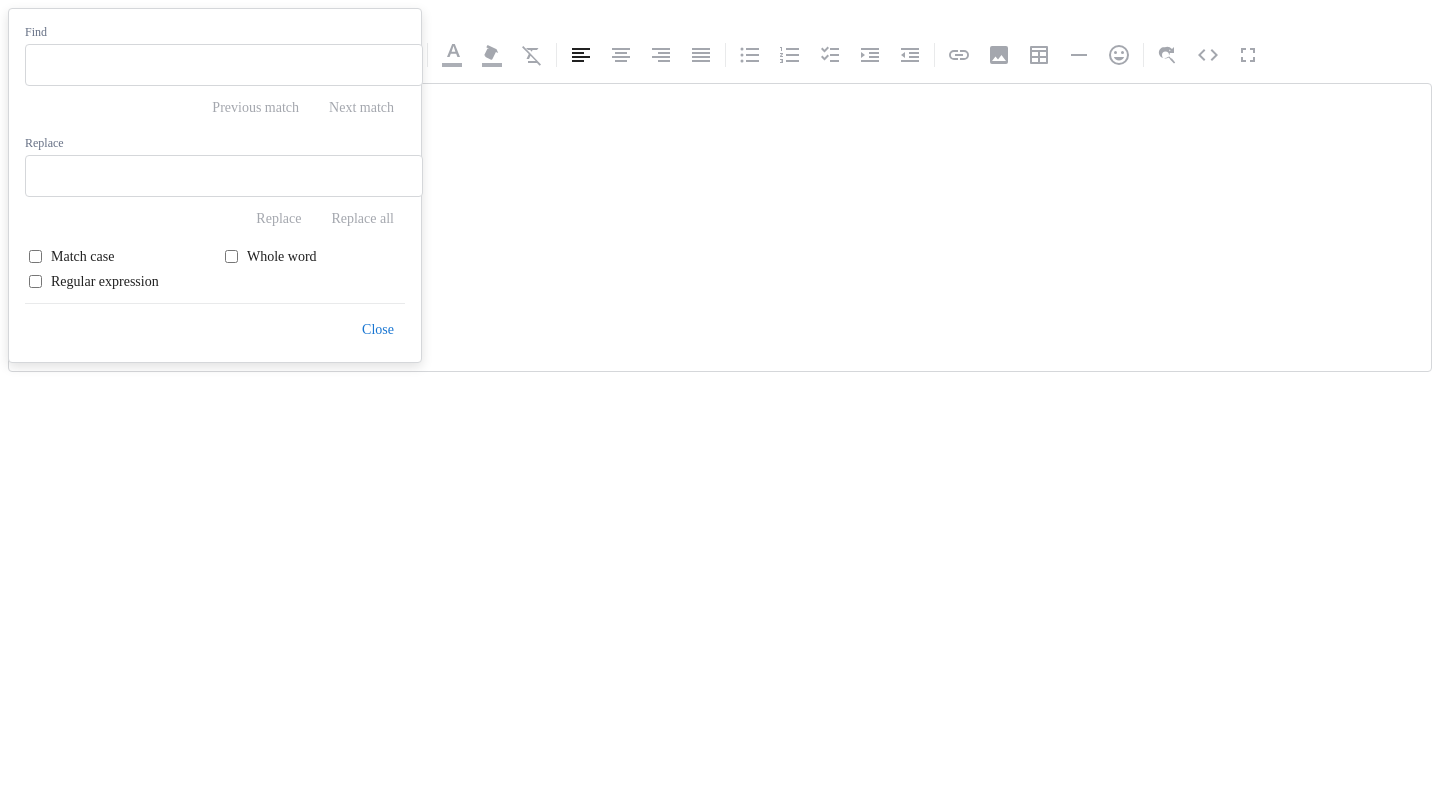
Test: find and replace › opens from the command and counts the matches
Type "water" into the field labelled "Find" at (224, 65), box [25,44,423,86]
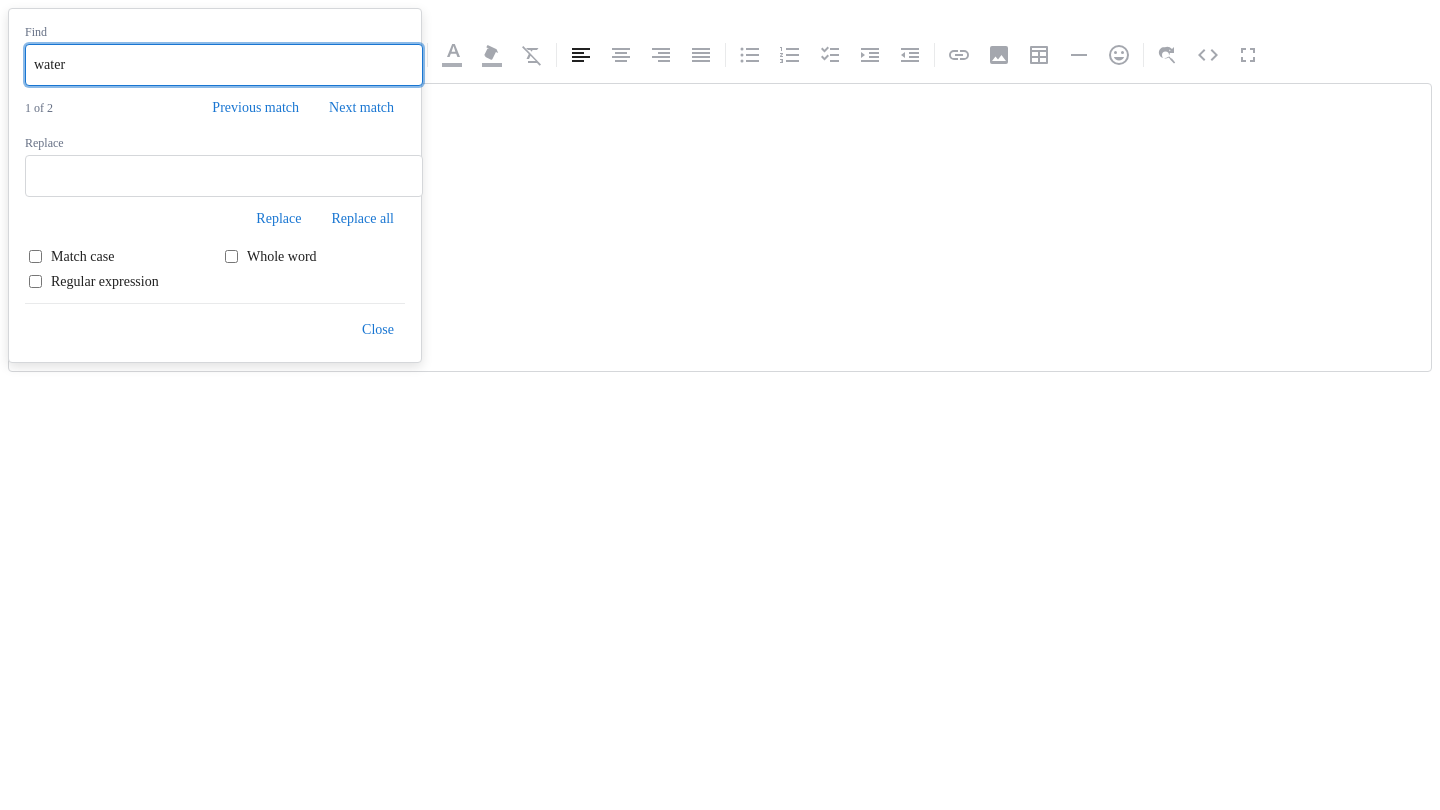
Expected: the text "1 of 2" is shown, [25,100,53,116]
